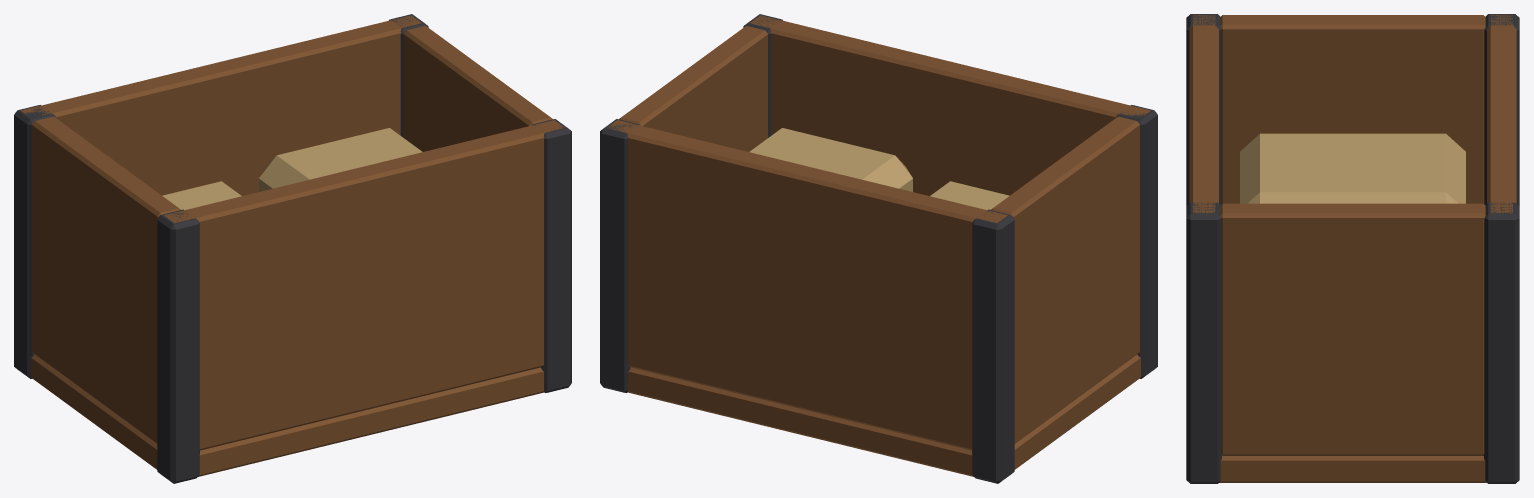
The model's file is Prop_Ash_SeedCache.glb.
The picture shows the model from 3 angles, left to right: view 1: azimuth 30°, elevation 25°; view 2: azimuth 150°, elevation 25°; view 3: azimuth 270°, elevation 25°; orthographic projection. The views are drawn at different scales.
Parts seen in each view (by area): view 1: Prop_Ash_SeedCache; view 2: Prop_Ash_SeedCache; view 3: Prop_Ash_SeedCache.
Part boxes in pixels (bbox=[...]): Prop_Ash_SeedCache: bbox=[14, 14, 571, 483]; Prop_Ash_SeedCache: bbox=[600, 14, 1157, 483]; Prop_Ash_SeedCache: bbox=[1186, 14, 1519, 483].
Size of what is drawn, in the model's own units: 0.81 by 0.5 by 0.56.
